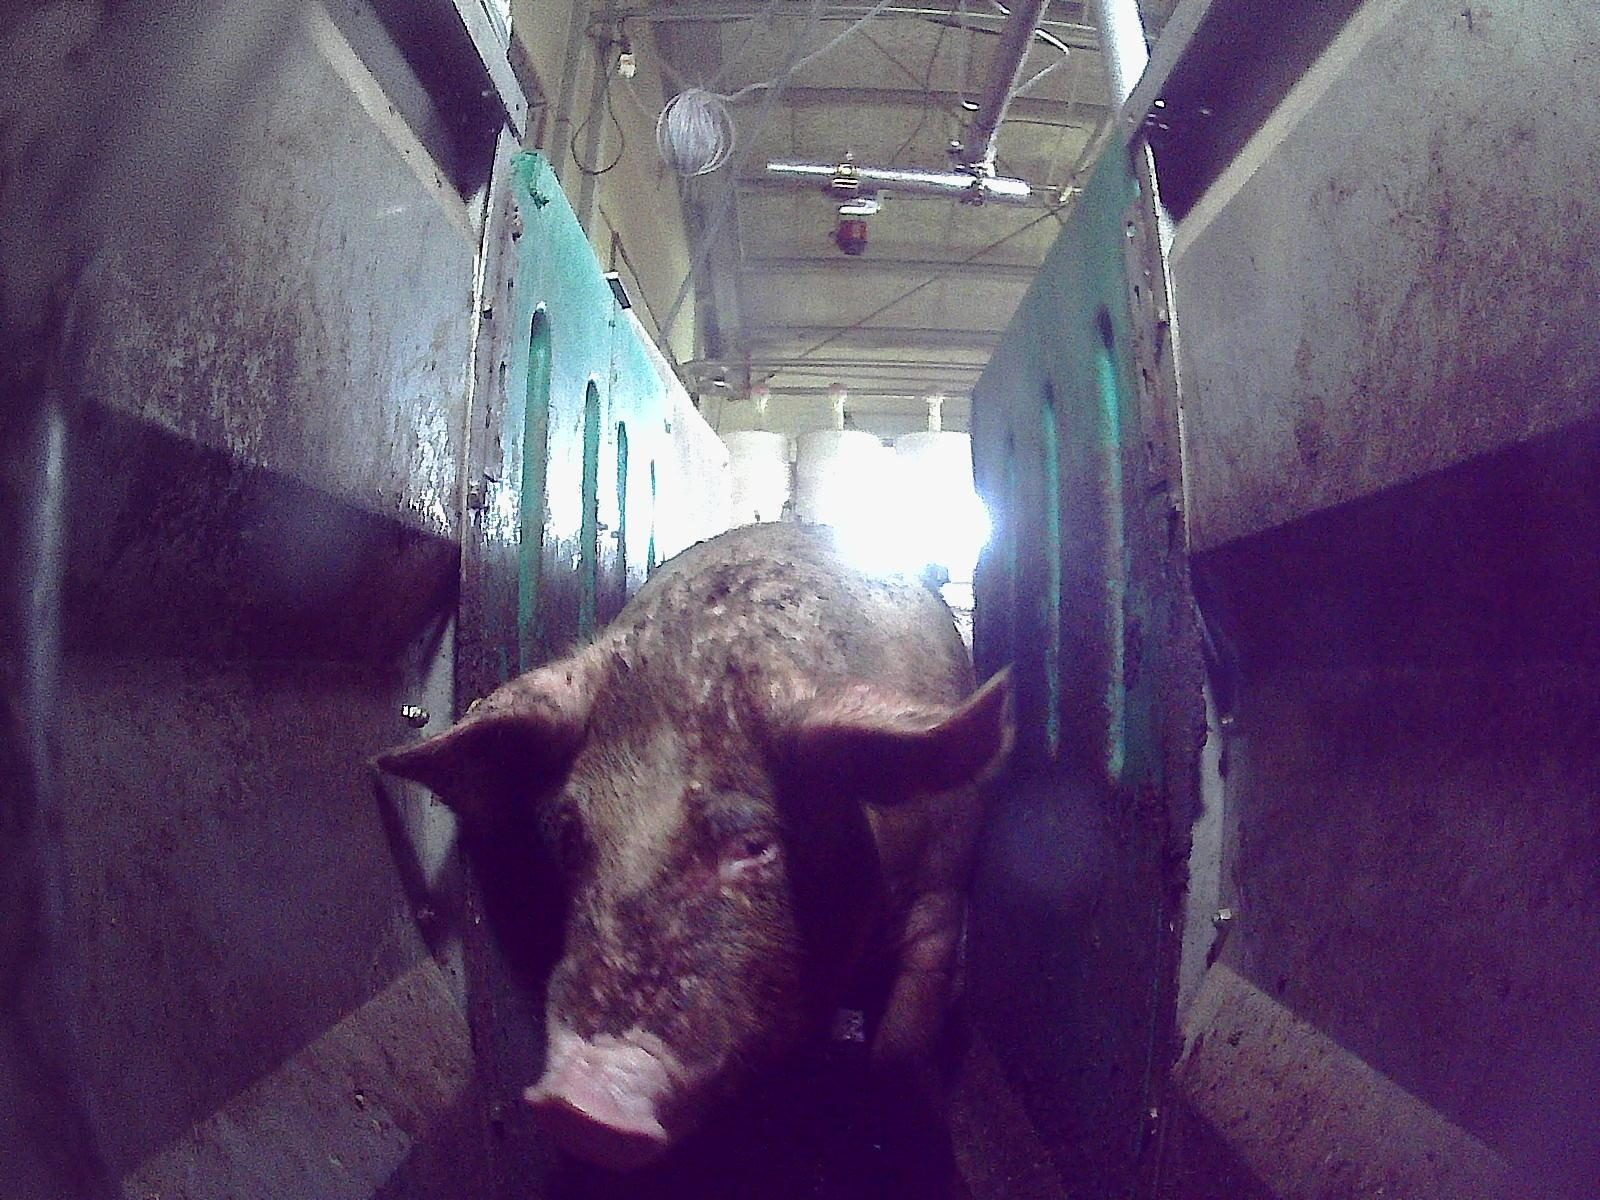Face: (522, 640, 864, 1165)
